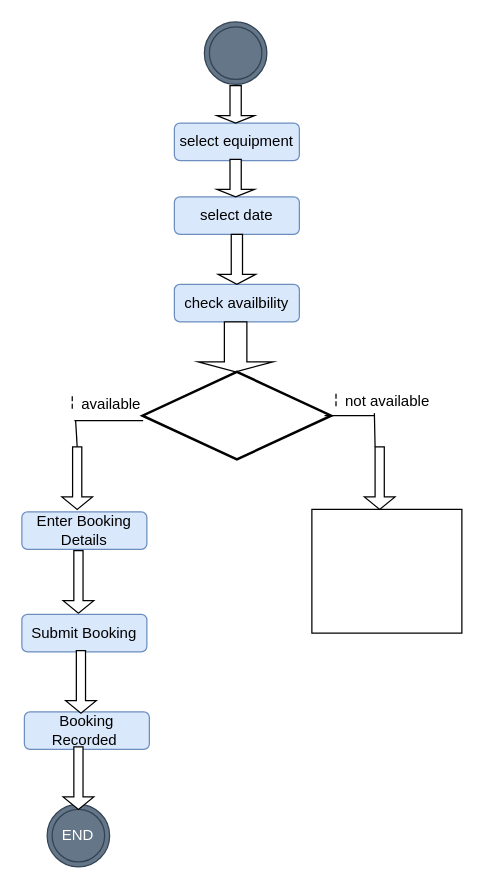
Some shapes in this 484 by 889 pixel diagram are drawn without their labels. Each missing label, with the box of its shape:
Is equipment available?: (141, 370, 332, 460)
UNKNOWN What should happen when the requested equipment is unavailable?: (311, 508, 462, 633)
